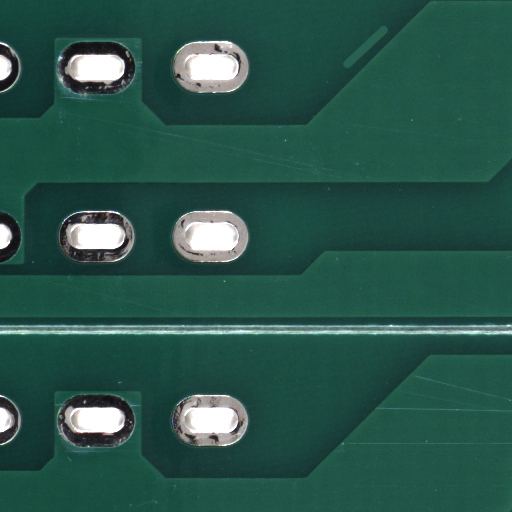Spurious_copper: (364, 46, 410, 89)
